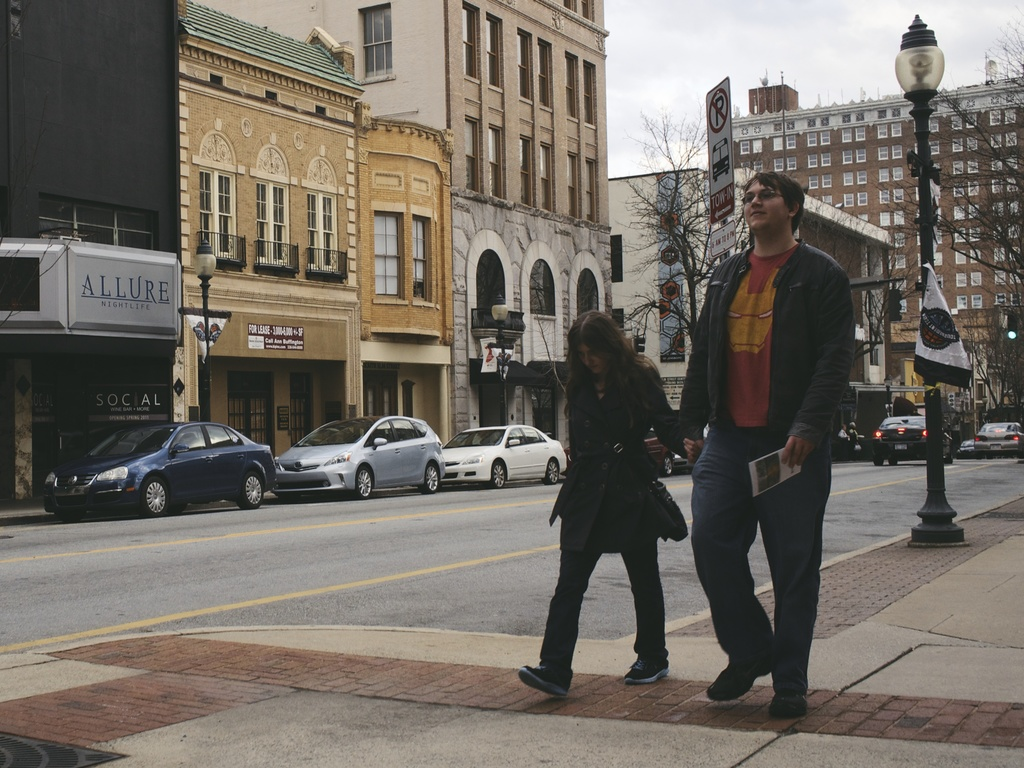mobil: (44, 417, 272, 512), (282, 405, 446, 511), (442, 419, 560, 484)
